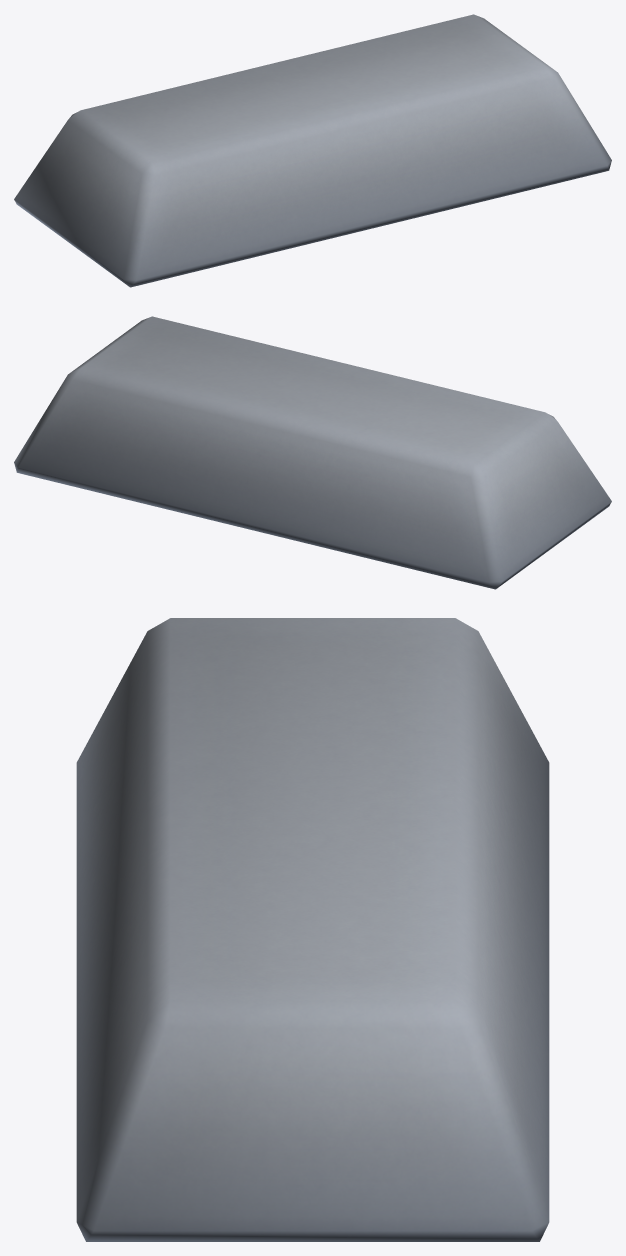
The model's file is SilverBar.FBX.
3 renders of one model, top to bottom at view 1: azimuth 30°, elevation 25°; view 2: azimuth 150°, elevation 25°; view 3: azimuth 270°, elevation 25°, orthographic. The views are drawn at different scales.
Parts seen in each view (by area): view 1: SilverBar; view 2: SilverBar; view 3: SilverBar.
Part boxes in pixels (box(x1,y1,x2,y2)): SilverBar: box(14, 14, 611, 287); SilverBar: box(14, 316, 611, 589); SilverBar: box(76, 618, 549, 1241).
Size of the model in its own units: 170 by 33.05 by 71.39.
Materials: 1 (1 with a texture image).
